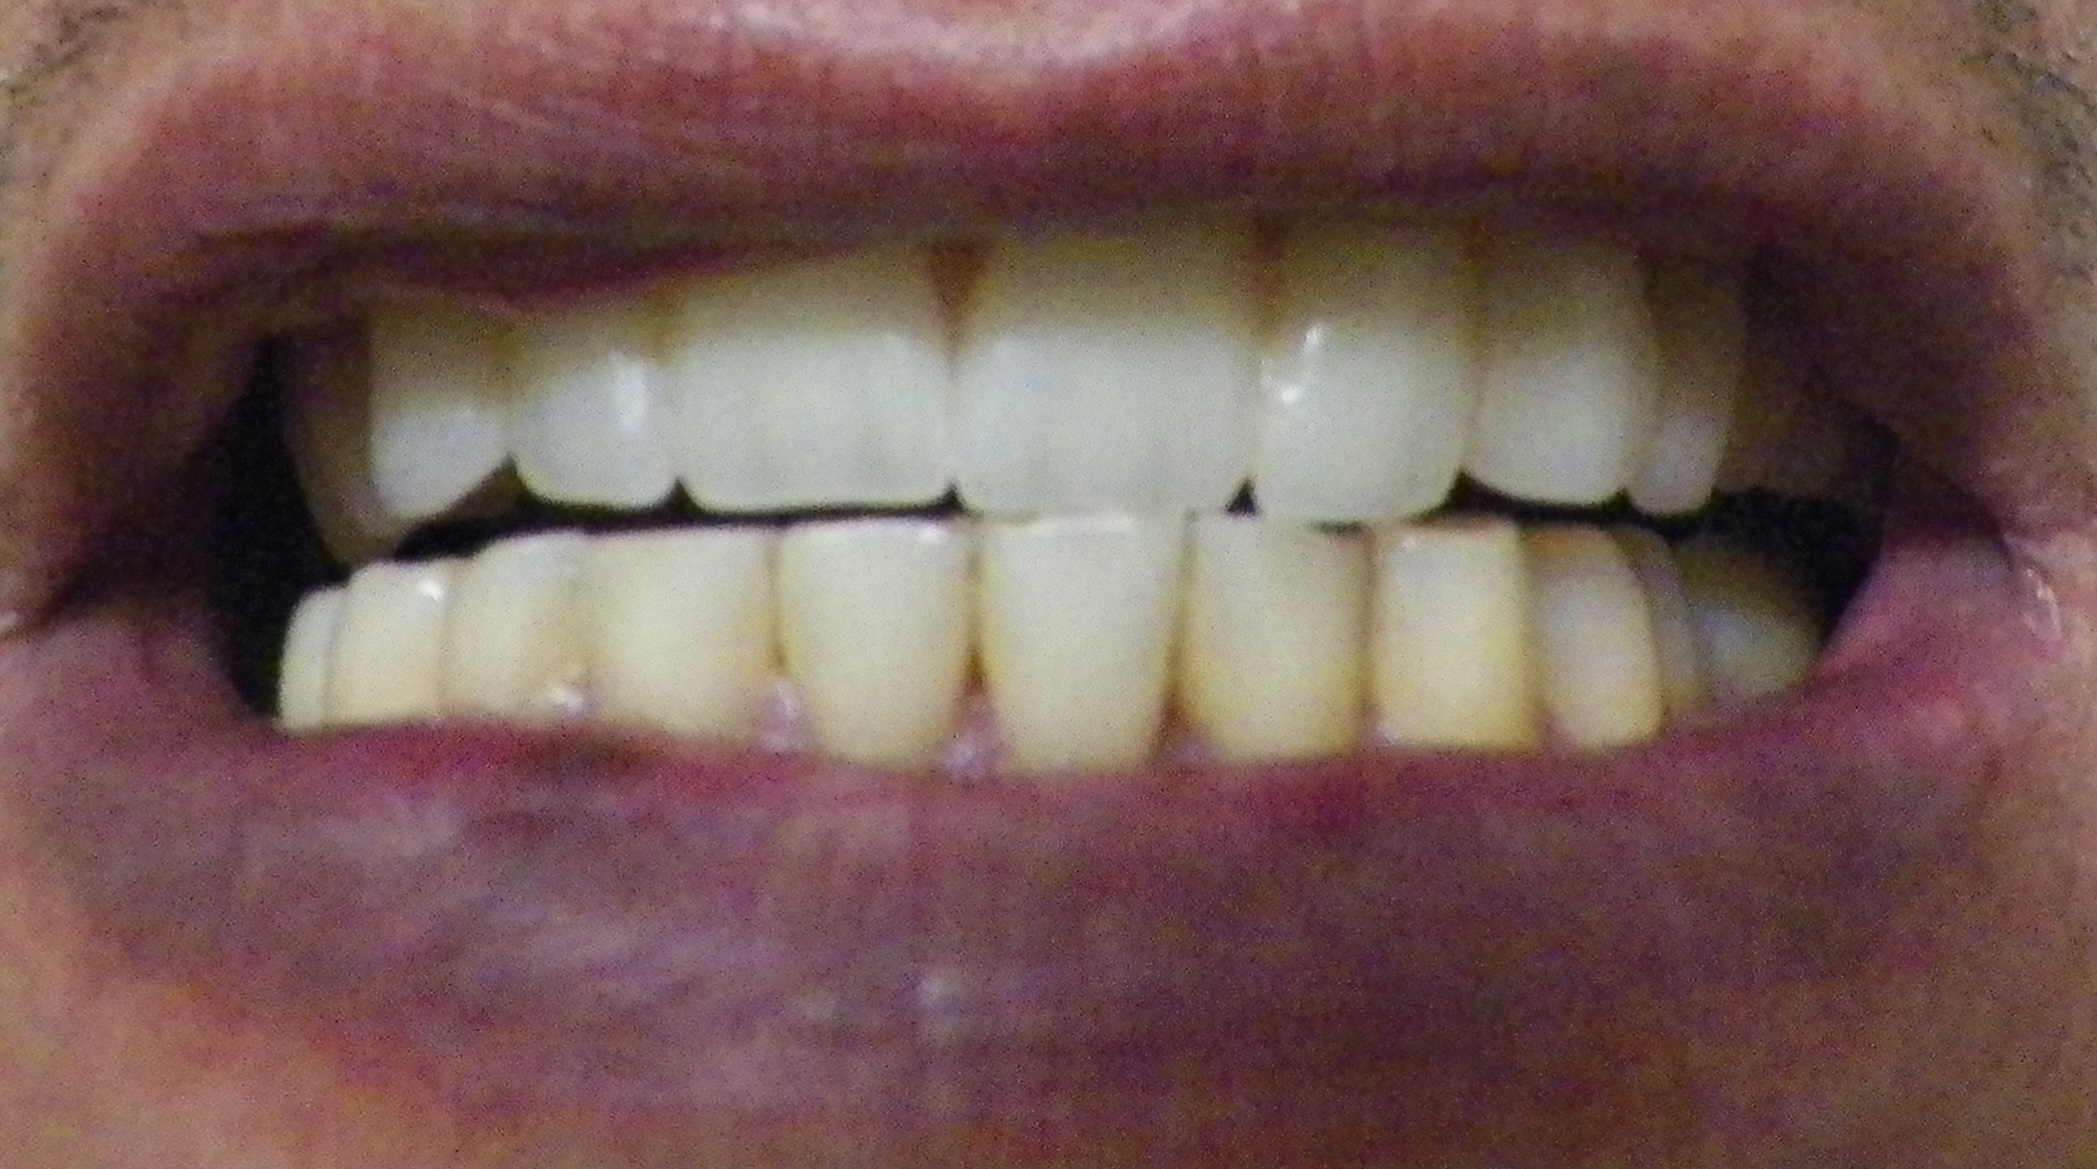boca: (281, 235, 1867, 751)
